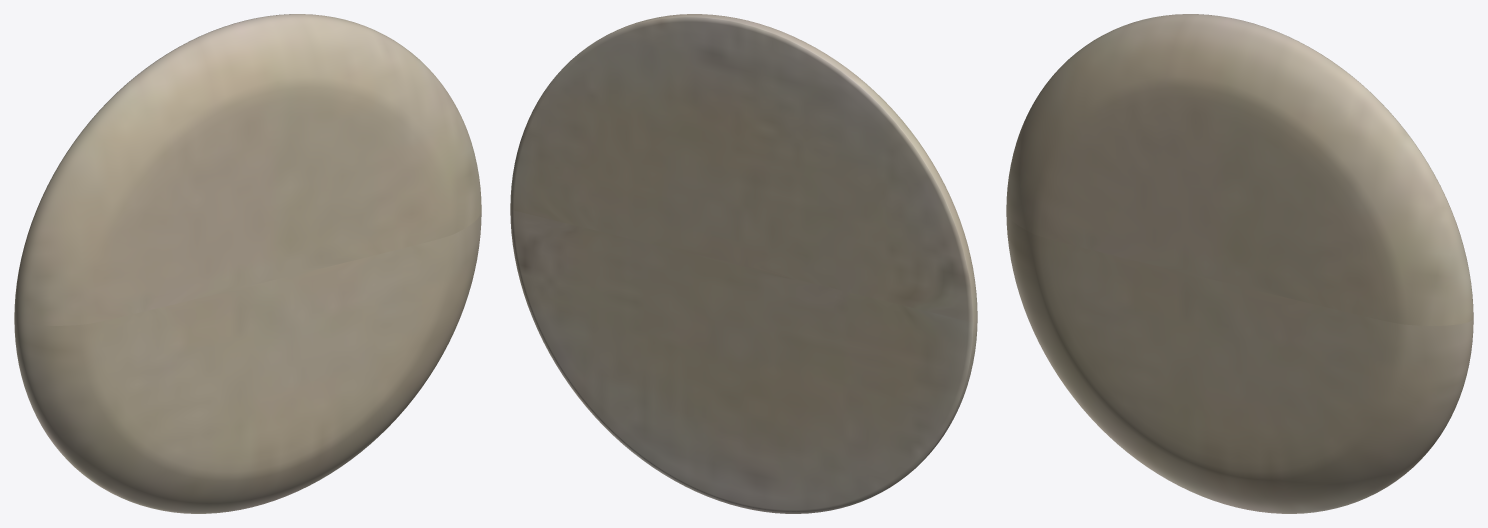
File: RoundWhiteOnionRoot.obj
3 renders of one model, left to right at view 1: azimuth 30°, elevation 25°; view 2: azimuth 150°, elevation 25°; view 3: azimuth 330°, elevation 25°, orthographic.
Parts seen in each view (by area): view 1: RoundWhiteOnionRoot; view 2: RoundWhiteOnionRoot; view 3: RoundWhiteOnionRoot.
Boxes of the visible parts, x1=… form: RoundWhiteOnionRoot: x1=14, y1=14, x2=481, y2=513; RoundWhiteOnionRoot: x1=510, y1=14, x2=977, y2=513; RoundWhiteOnionRoot: x1=1006, y1=14, x2=1473, y2=513.
Size of the model in its own units: 0.0268 by 0.0268 by 0.00258.
1 material, 1 textured.
